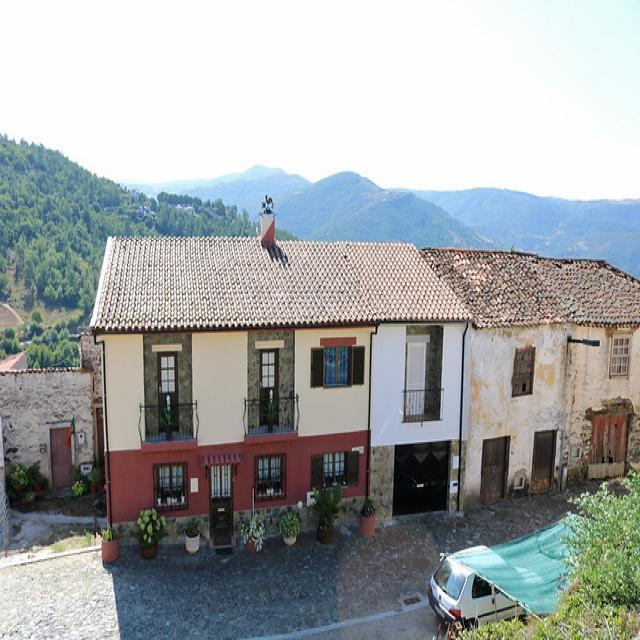building: (82, 228, 473, 556)
